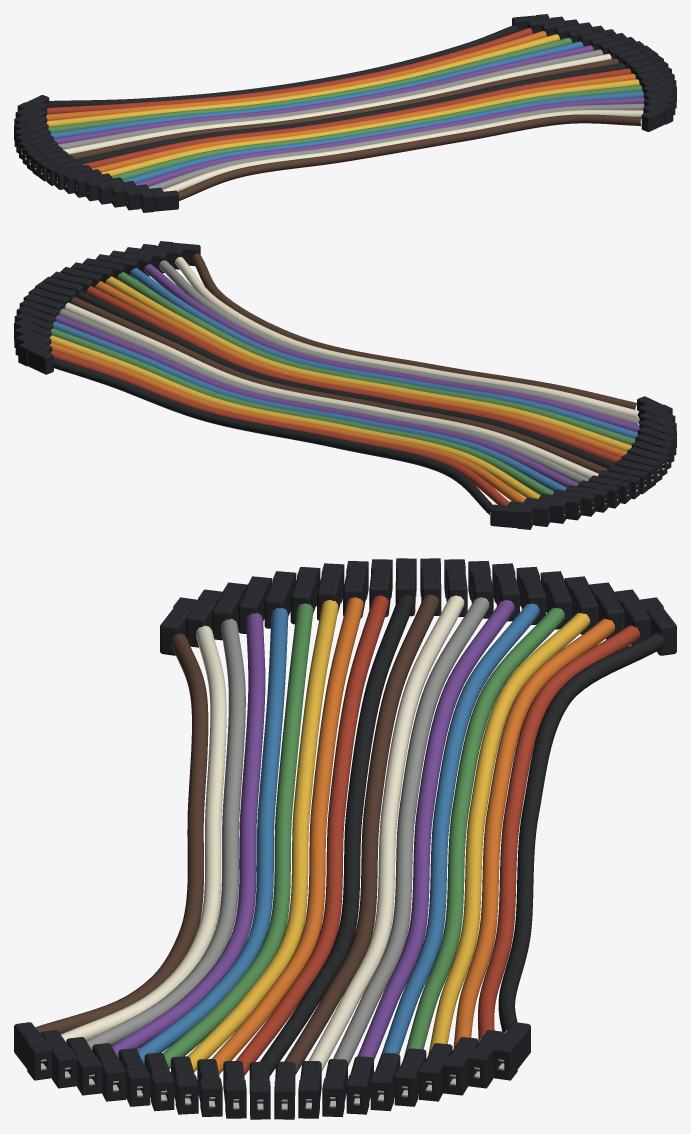
Rendered from components-24.glb.
3 views of the same model, one above another, from view 1: azimuth 30°, elevation 25°; view 2: azimuth 150°, elevation 25°; view 3: azimuth 270°, elevation 25° (orthographic). The views are drawn at different scales.
Visible parts, largest first — view 1: conductors, housings; view 2: conductors, housings; view 3: conductors, housings, contacts.
Boxes of the visible parts, x1=… form: conductors: x1=46, y1=25, x2=644, y2=200; housings: x1=14, y1=14, x2=676, y2=212; conductors: x1=49, y1=253, x2=639, y2=514; housings: x1=14, y1=241, x2=676, y2=529; conductors: x1=35, y1=594, x2=664, y2=1075; housings: x1=14, y1=558, x2=676, y2=1119; contacts: x1=41, y1=1059, x2=504, y2=1109.
Size of the model in its own units: 4.58 by 0.1831 by 2.41.
